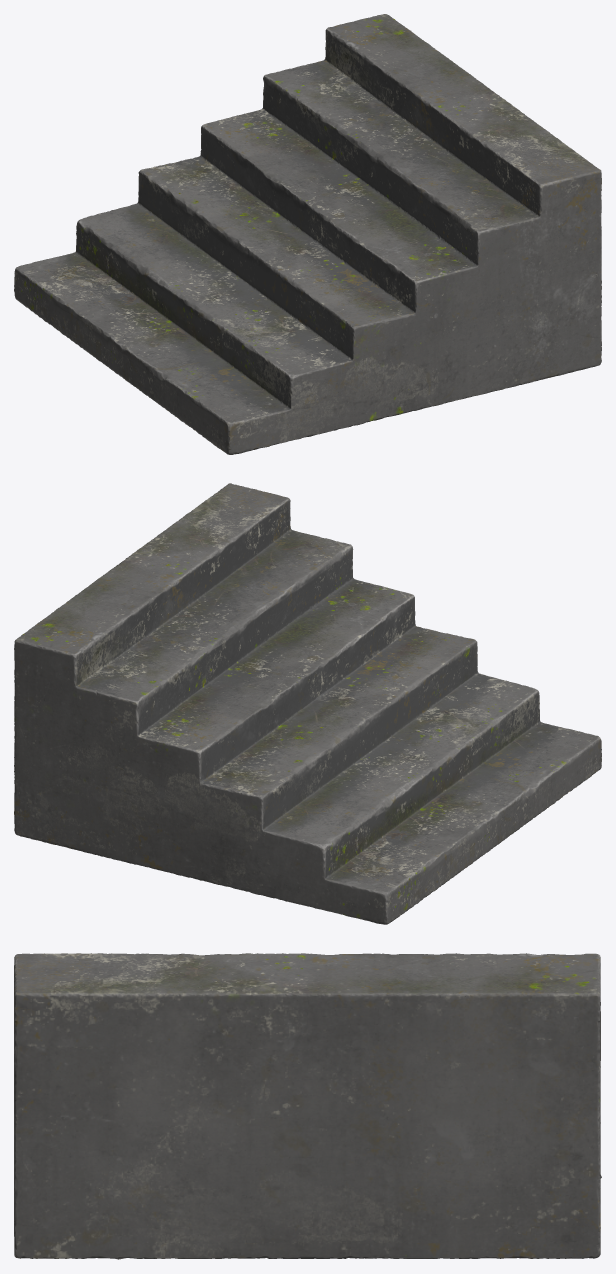
The model's file is SM_Sewer_Stairs_01a.fbx.
3 renders of one model, top to bottom at view 1: azimuth 30°, elevation 25°; view 2: azimuth 150°, elevation 25°; view 3: azimuth 270°, elevation 25°, orthographic. The views are drawn at different scales.
Visible parts, largest first — view 1: SM_Sewer_Stairs_01a_LOD0; view 2: SM_Sewer_Stairs_01a_LOD0; view 3: SM_Sewer_Stairs_01a_LOD0.
Boxes of the visible parts, x1,y1,x2,y2 form: SM_Sewer_Stairs_01a_LOD0: (14, 14, 601, 454); SM_Sewer_Stairs_01a_LOD0: (14, 483, 601, 924); SM_Sewer_Stairs_01a_LOD0: (14, 953, 601, 1259).
Size of the model in its own units: 200 by 200 by 100.
